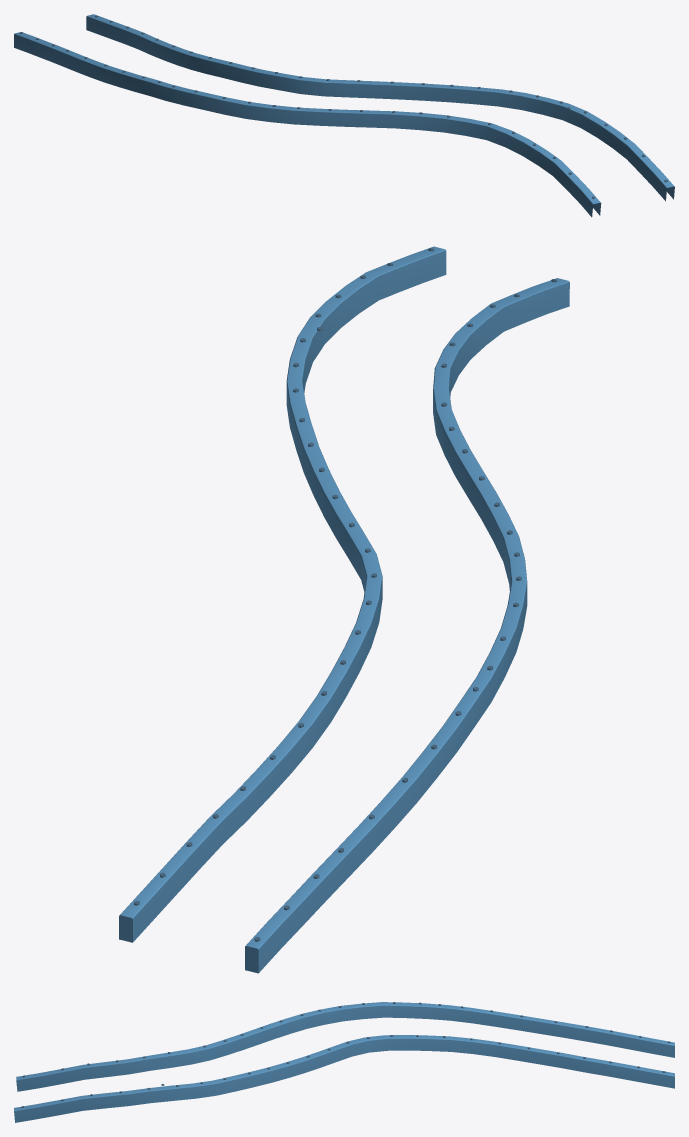
The model's file is railB_side.fbx.
3 views of the same model, one above another, from view 1: azimuth 30°, elevation 25°; view 2: azimuth 150°, elevation 25°; view 3: azimuth 270°, elevation 25° (orthographic). The views are drawn at different scales.
Parts seen in each view (by area): view 1: railB_side; view 2: railB_side; view 3: railB_side.
Part boxes in pixels (x1,y1,x2,y2): railB_side: (14,14,674,217); railB_side: (119,246,569,973); railB_side: (14,1002,674,1122).
Bounding box in the file's own units: 3.82 × 1.2 × 8.92.
